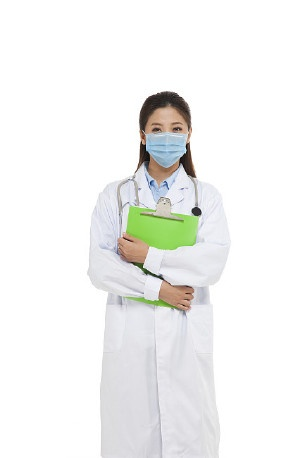Mask: (141, 120, 191, 169)
